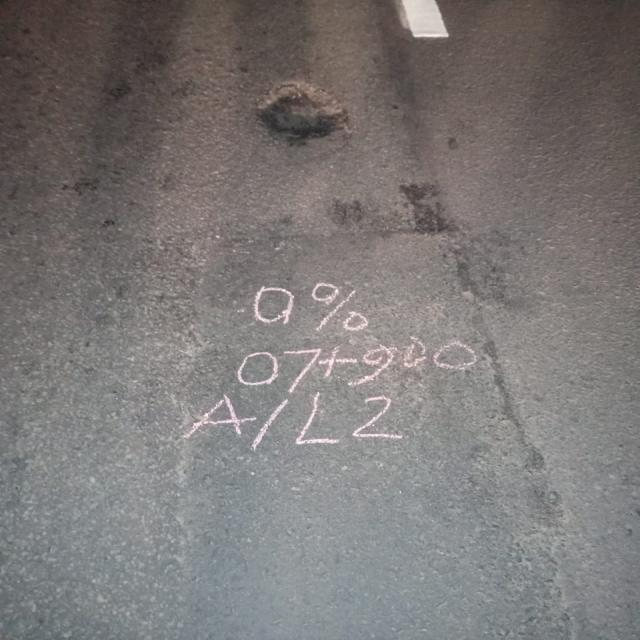Buraco: (249, 75, 358, 151)
